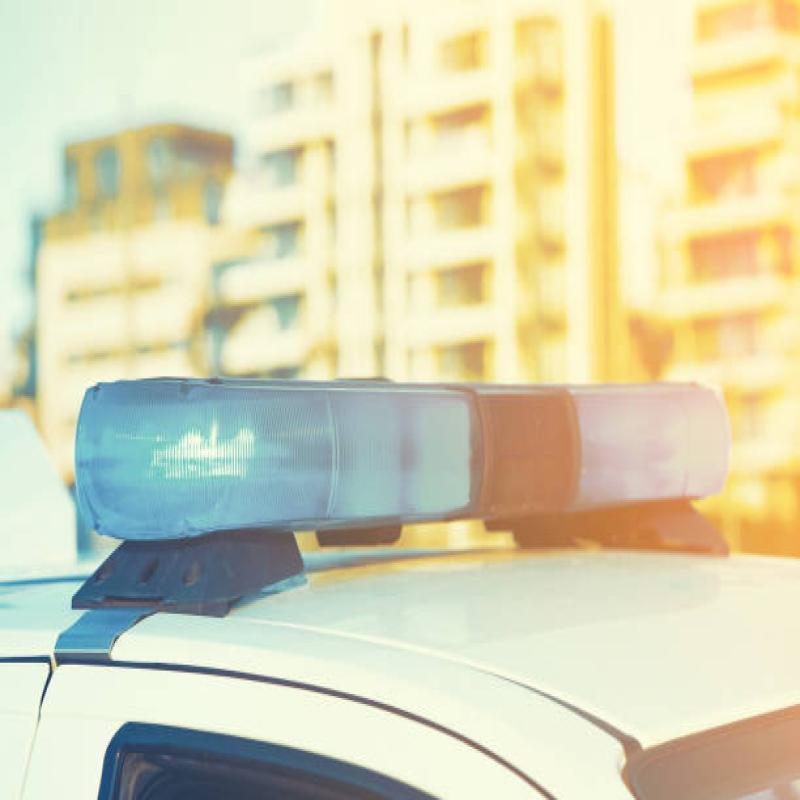AmbulanceSiren: (57, 309, 752, 602)
